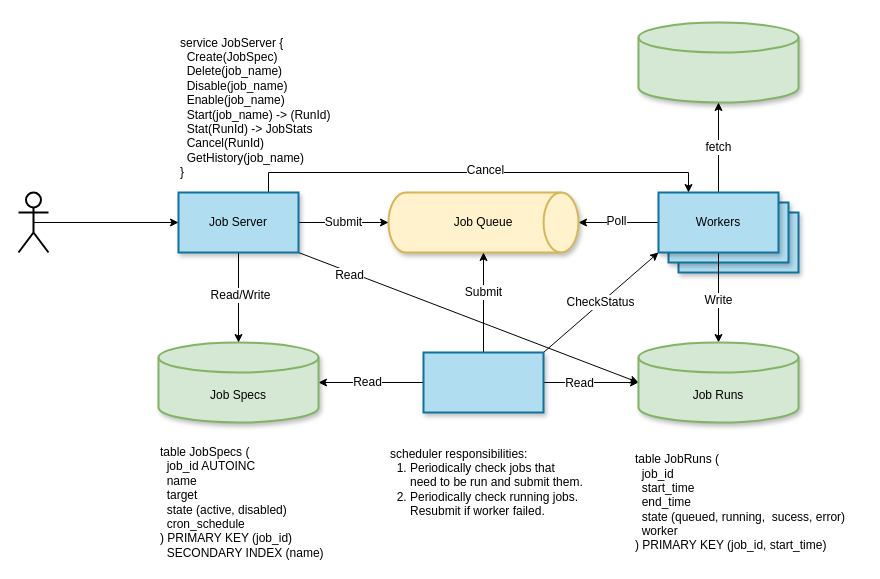
This 880x579 diagram has some shape labels left out. The centre of each missing label's shape, as x and y in pixels:
"Build Cache" belongs at [719,63].
"Scheduler" belongs at [484,383].
"User" belongs at [33,222].
